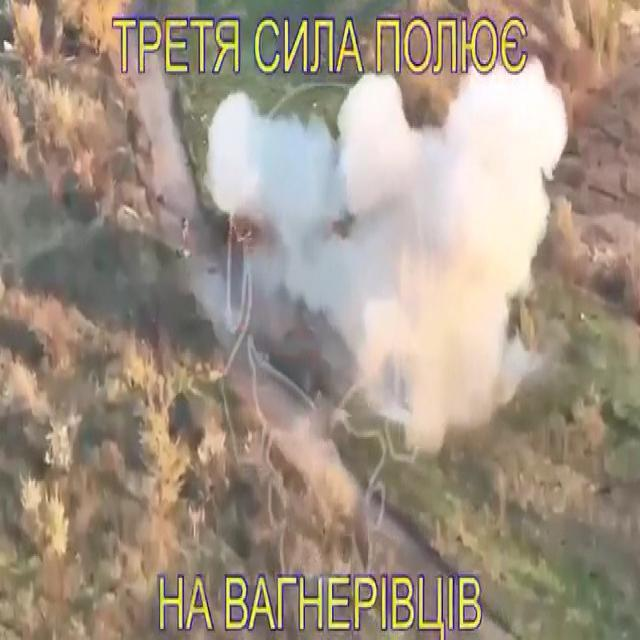MIL_Pax: (181, 217, 189, 243)
